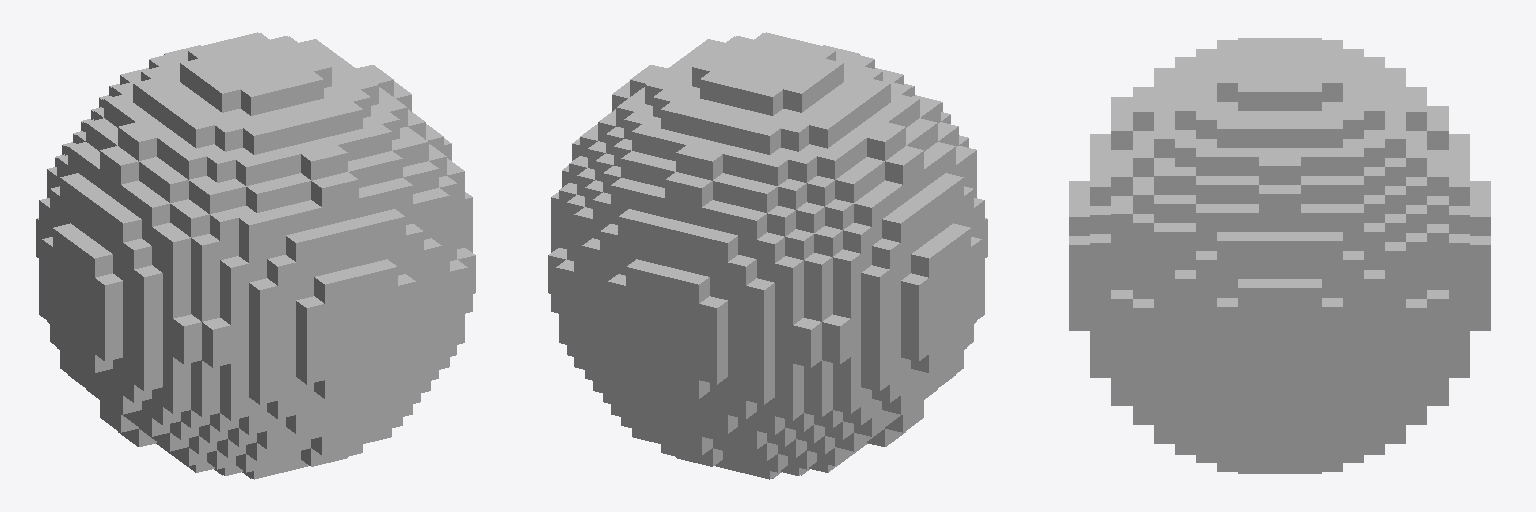
The model's file is planet definitivo.obj.
3 views of the same model, side by side, from view 1: azimuth 30°, elevation 25°; view 2: azimuth 150°, elevation 25°; view 3: azimuth 270°, elevation 25° (orthographic).
Parts seen in each view (by area): view 1: planet definitivo; view 2: planet definitivo; view 3: planet definitivo.
Part boxes in pixels (bbox=[...]): planet definitivo: bbox=[36, 32, 475, 479]; planet definitivo: bbox=[548, 32, 987, 479]; planet definitivo: bbox=[1069, 38, 1490, 473].
Size of the model in its own units: 40 by 40 by 40.